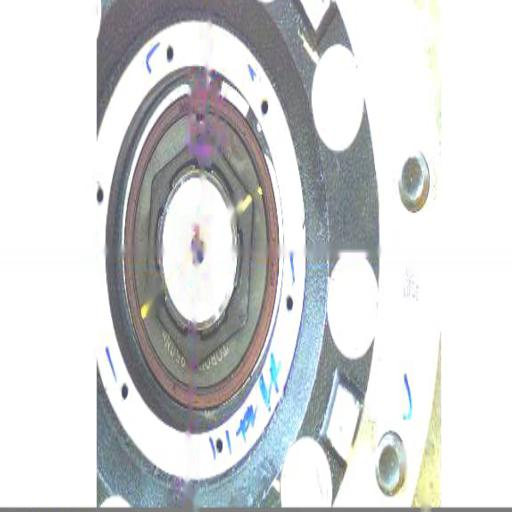center: (195, 243, 205, 272)
notch: (195, 102, 207, 129)
